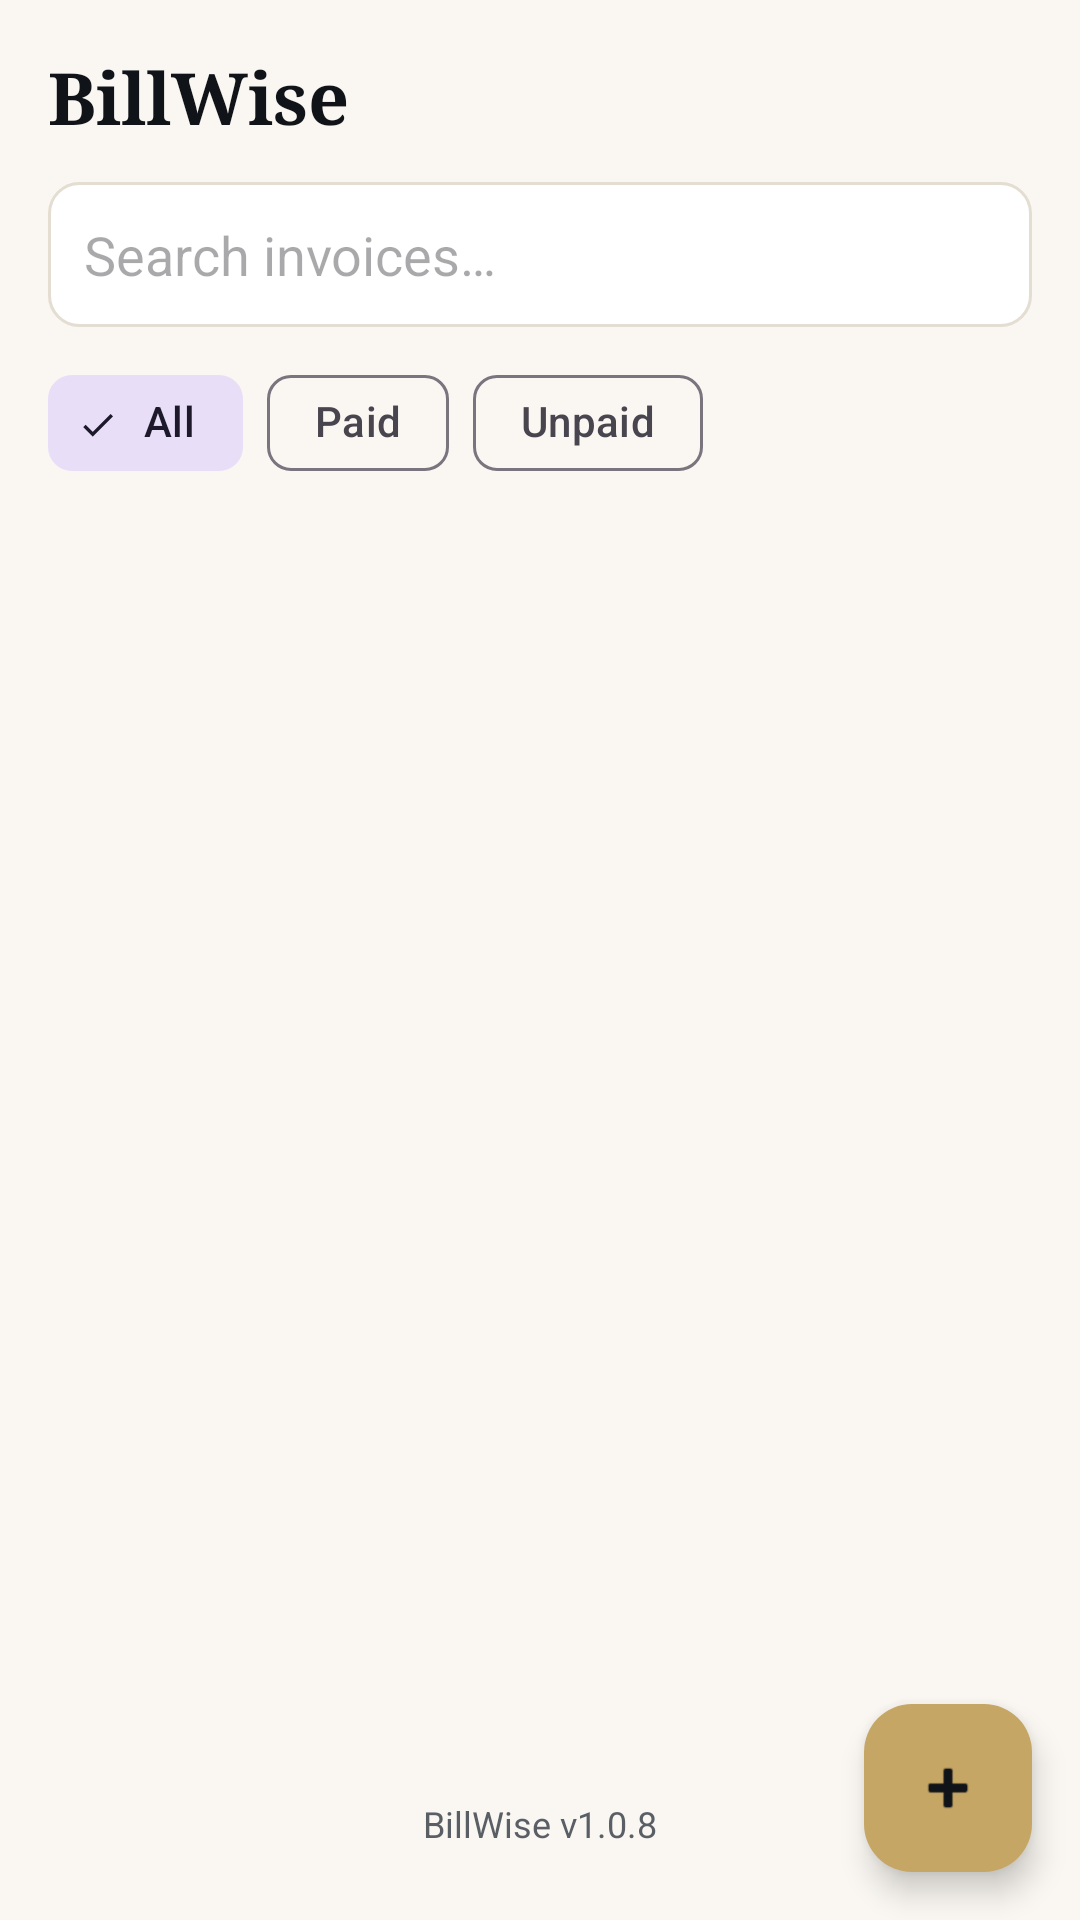

Icon bounding boxes for this 1080*1920 phone screenshot, format (x1, y1, x2, y2):
New Invoice: (864, 1704, 1032, 1872)
